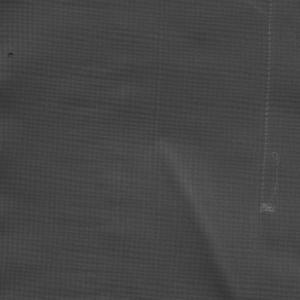Wrinkle: (148, 140, 244, 300)
